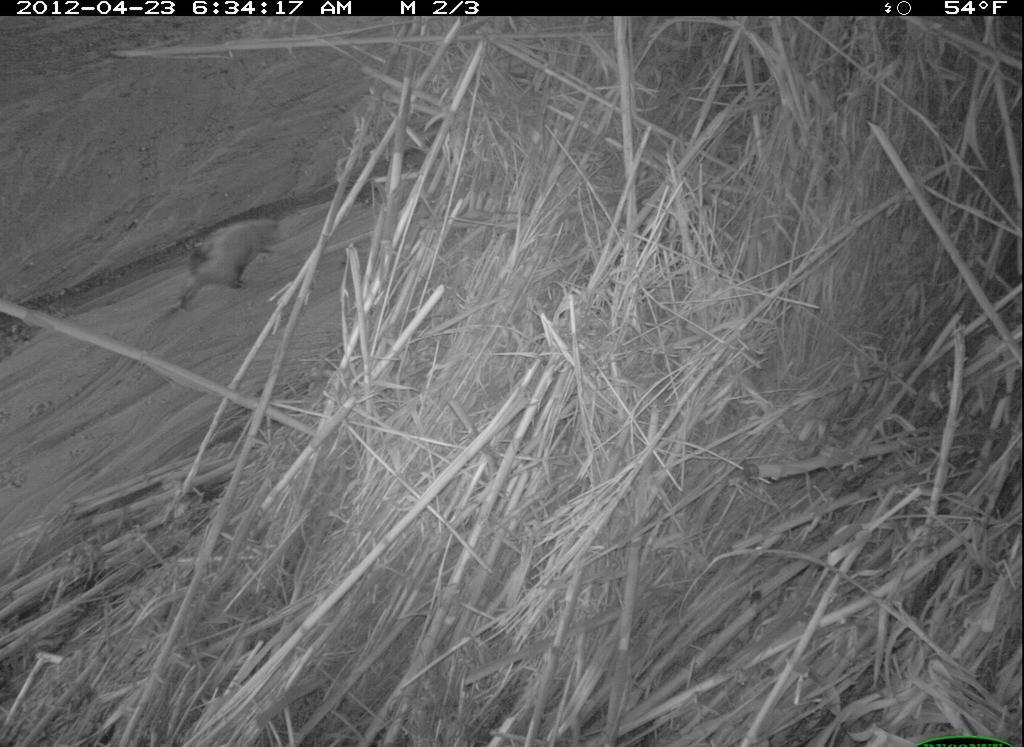opossum: (161, 212, 299, 319)
